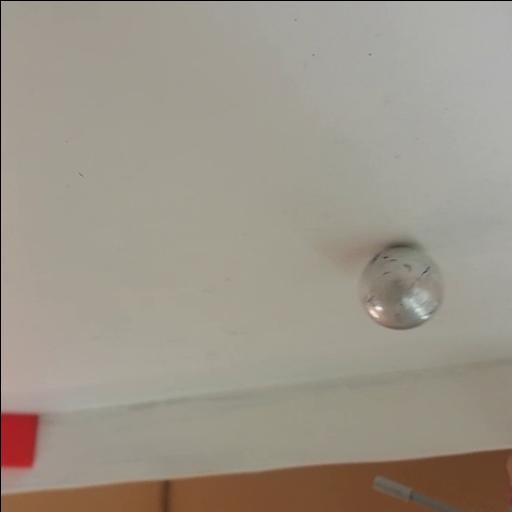alive: (356, 242, 446, 332)
